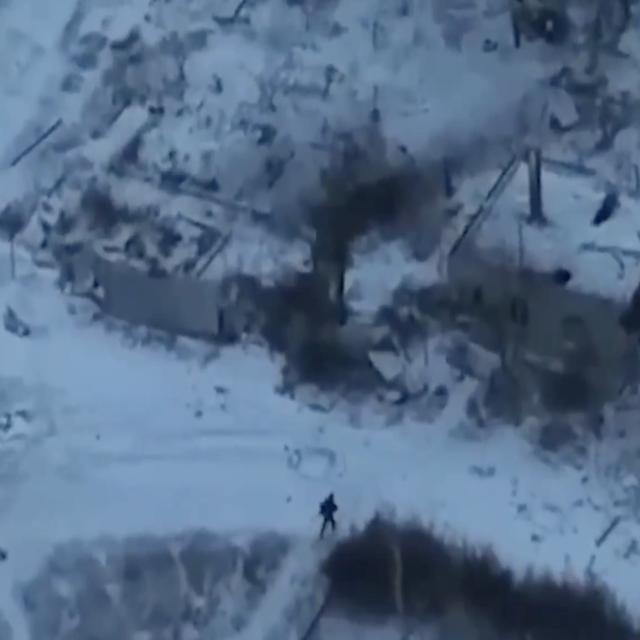infantry: (316, 483, 343, 544)
